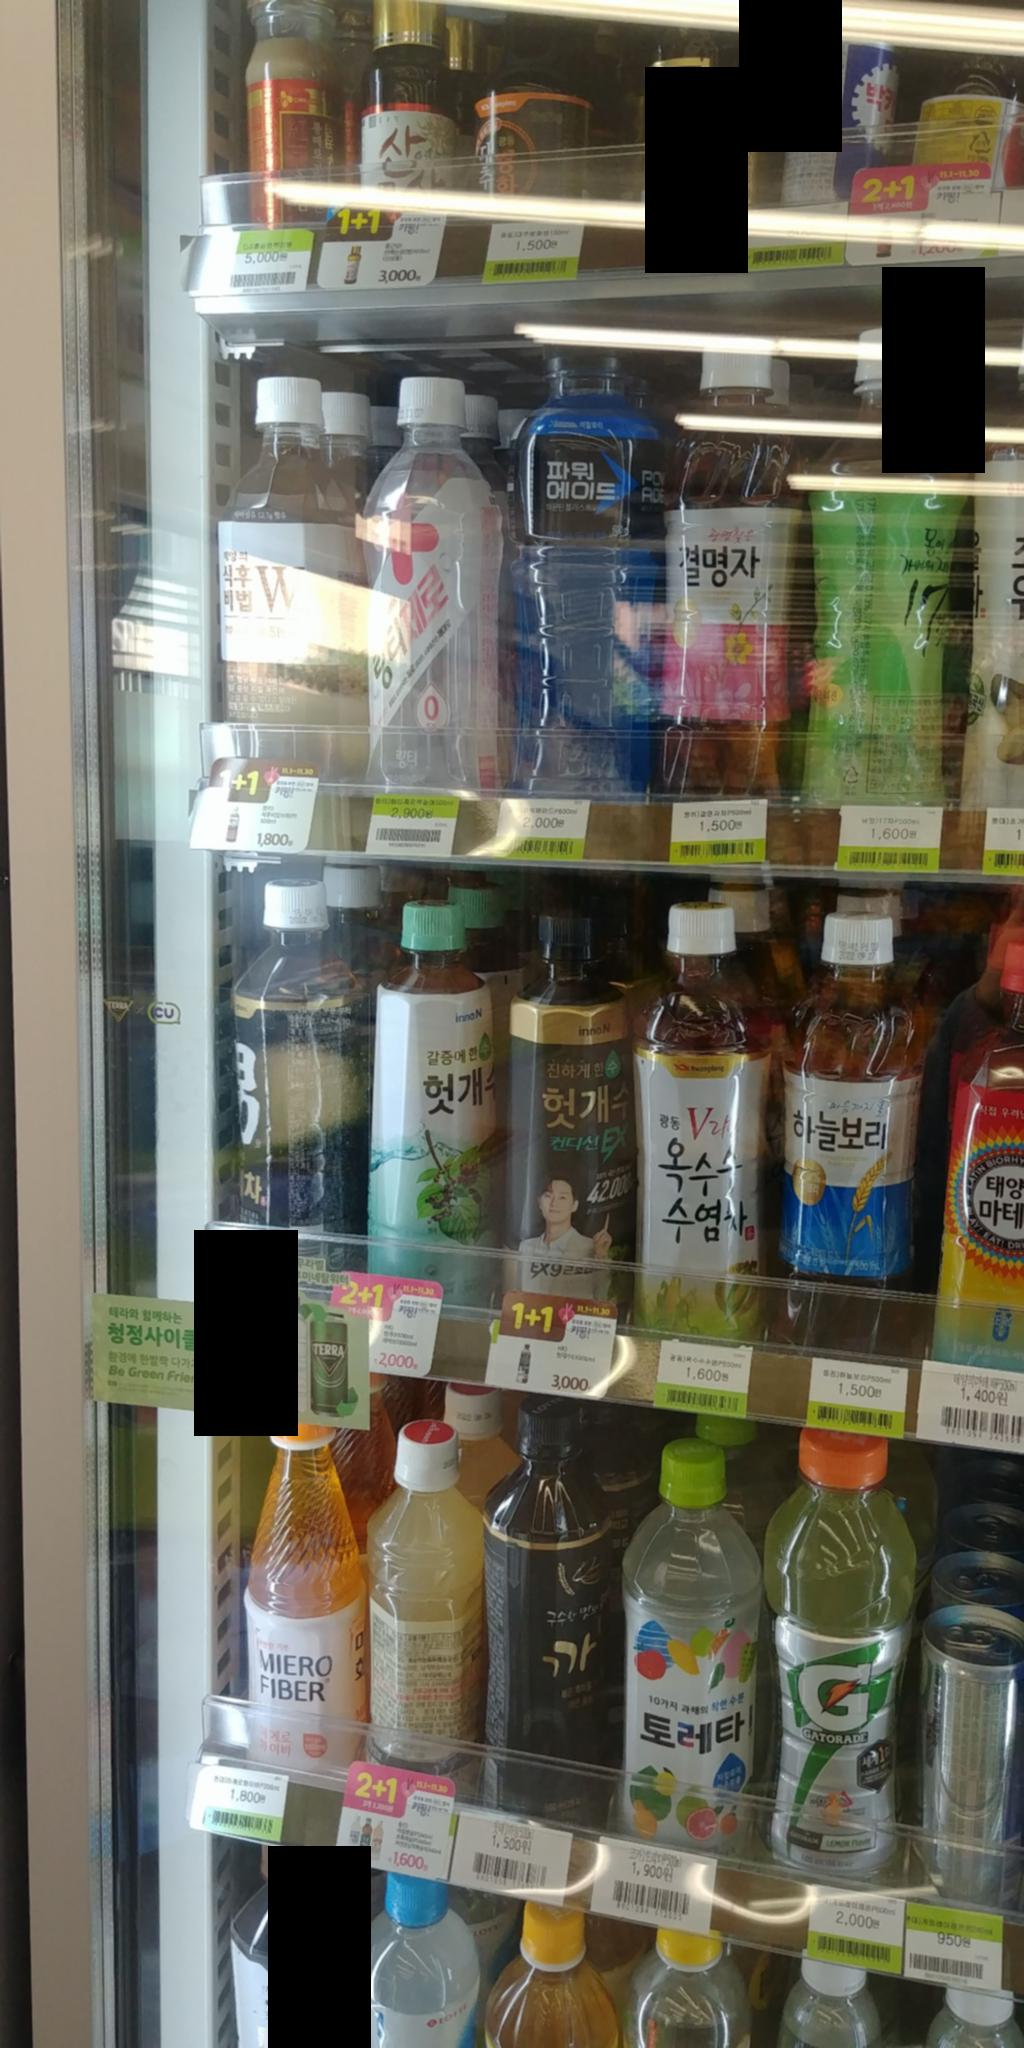gatorade_lemon: (773, 1413, 909, 1865)
haneulbori: (780, 901, 921, 1365)
heotgaecha: (214, 871, 353, 1287)
oksususuyeomcha: (633, 889, 760, 1343)
powerade_mountainblast: (504, 337, 684, 792)
toreta: (618, 1433, 771, 1853)
